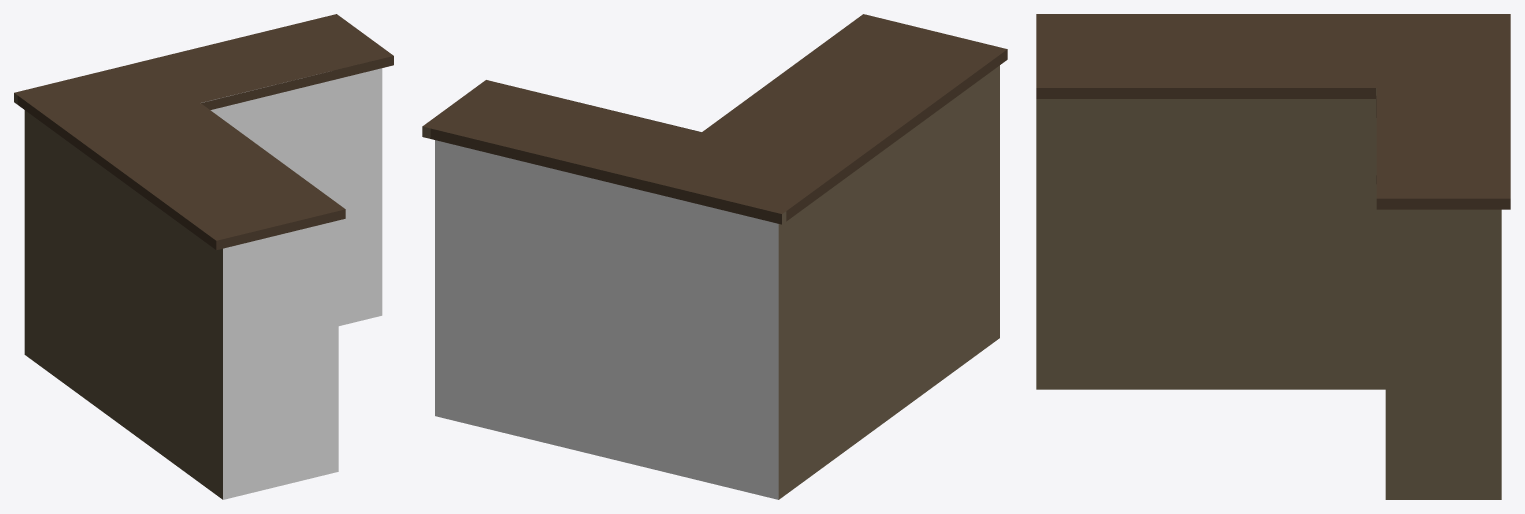
Rendered from Тумба в декане .fbx.
3 renders of one model, left to right at view 1: azimuth 30°, elevation 25°; view 2: azimuth 150°, elevation 25°; view 3: azimuth 270°, elevation 25°, orthographic. The views are drawn at different scales.
Parts seen in each view (by area): view 1: Тумба; view 2: Тумба; view 3: Тумба.
Part boxes in pixels (box(x1,y1,x2,y2)): Тумба: box(14, 14, 393, 499); Тумба: box(422, 14, 1007, 499); Тумба: box(1036, 14, 1510, 499).
Bounding box in the file's own units: 5.53 × 4.27 × 6.
